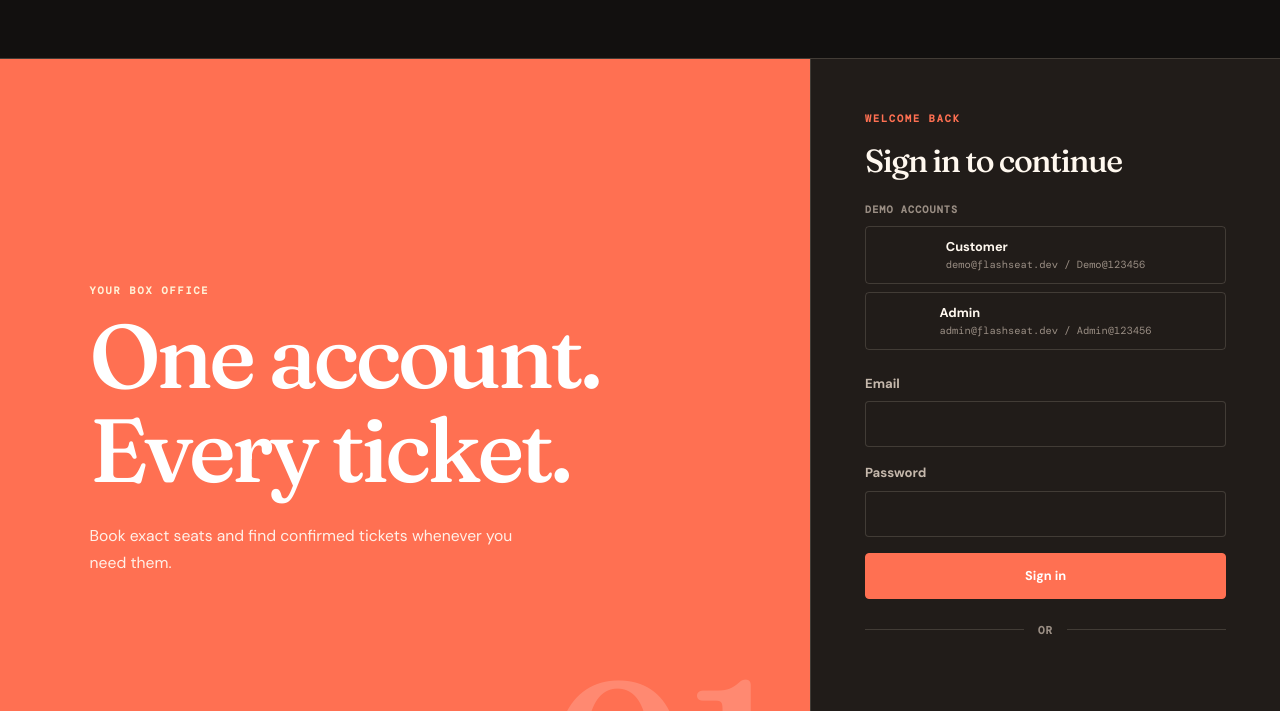
AuthPage › fills demo credentials without signing in
Click the button "Customer demo@flashseat.dev / Demo@123456" at (1046, 255), box [865,226,1226,284]
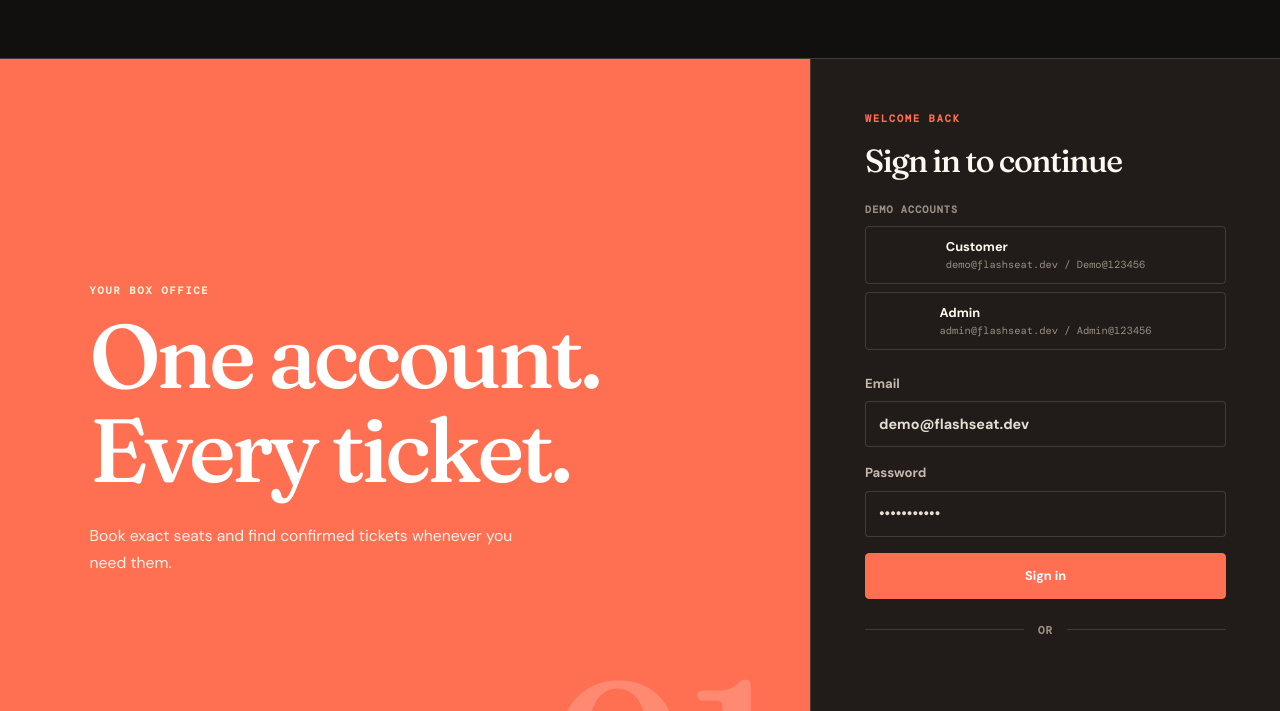
Check: the field labelled "Email" holds "demo@flashseat.dev", box [865,401,1226,447]
Check: the password field labelled "Password" holds "Demo@123456", box [865,491,1226,537]
Click the button "Admin admin@flashseat.dev / Admin@123456" at (1046, 321), box [865,292,1226,350]
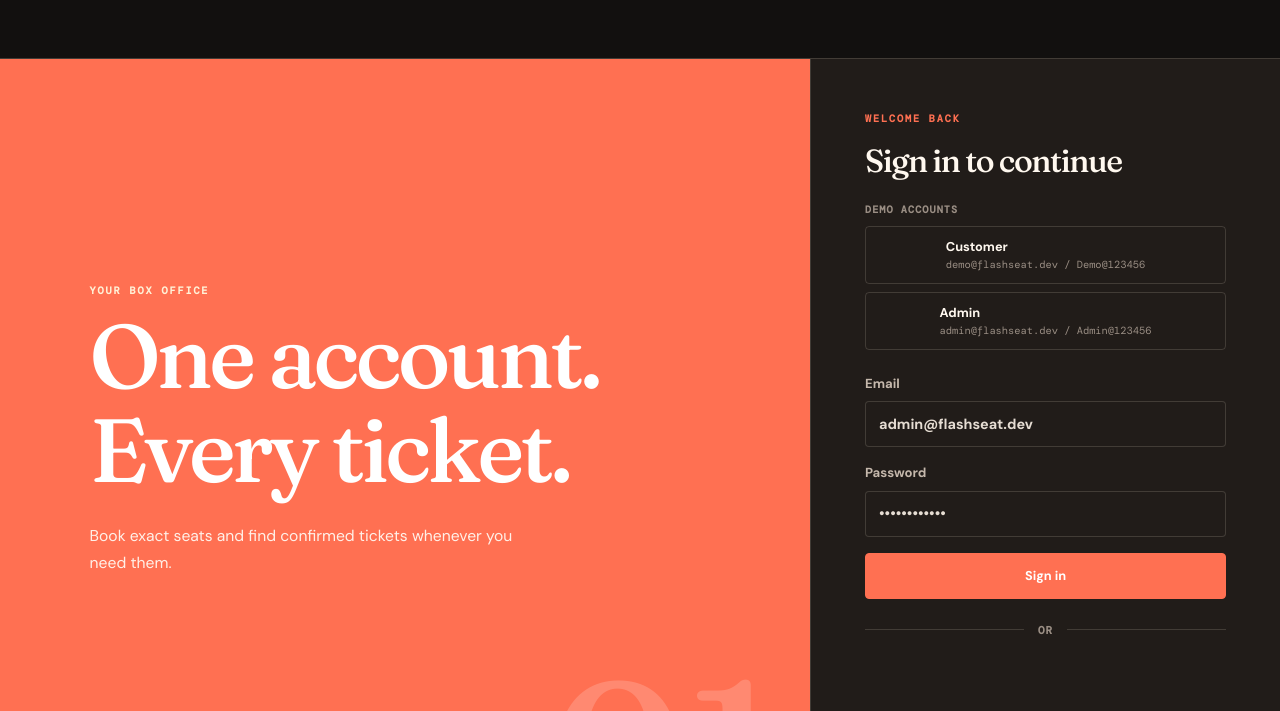
Check: the password field labelled "Password" holds "Admin@123456", box [865,491,1226,537]
Check: the field labelled "Email" holds "admin@flashseat.dev", box [865,401,1226,447]
